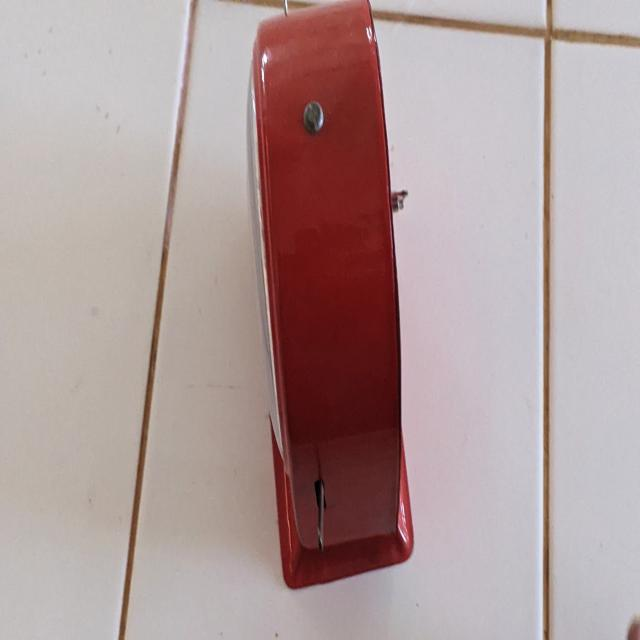Analog Stopwatch: (247, 0, 413, 594)
